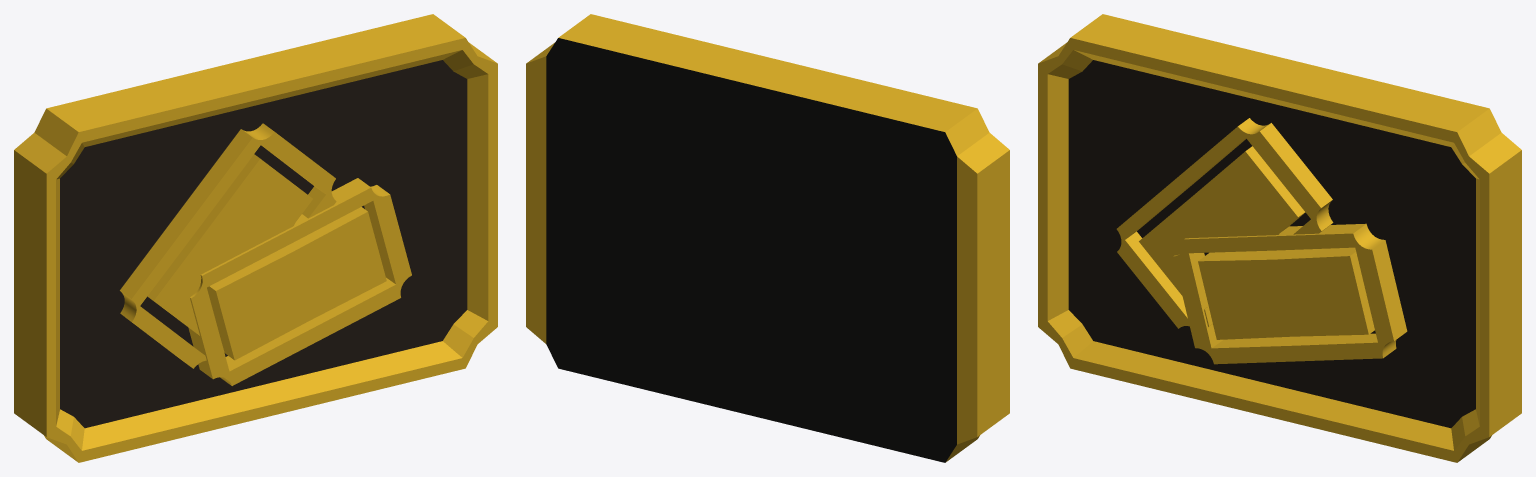
Rendered from Prop_TicketsSign.fbx.
The picture shows the model from 3 angles, left to right: view 1: azimuth 30°, elevation 25°; view 2: azimuth 150°, elevation 25°; view 3: azimuth 330°, elevation 25°; orthographic projection.
Visible parts, largest first — view 1: wall_sign_flat_b, Cube.001, Cube; view 2: wall_sign_flat_b; view 3: wall_sign_flat_b, Cube.001, Cube.
Boxes of the visible parts, x1=… form: wall_sign_flat_b: x1=14, y1=14, x2=497, y2=462; Cube.001: x1=188, y1=178, x2=411, y2=385; Cube: x1=120, y1=123, x2=336, y2=368; wall_sign_flat_b: x1=526, y1=14, x2=1009, y2=462; wall_sign_flat_b: x1=1038, y1=14, x2=1521, y2=462; Cube.001: x1=1173, y1=223, x2=1407, y2=364; Cube: x1=1116, y1=118, x2=1333, y2=328.
Bounding box in the file's own units: 63.66 × 44.58 × 9.11.
